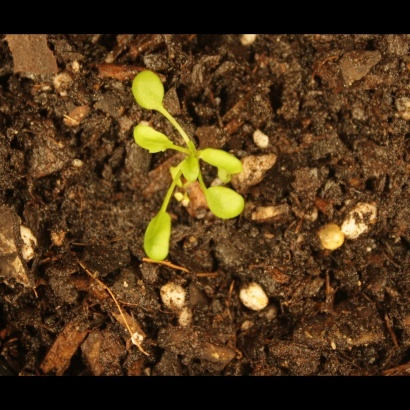leaf: (135, 207, 178, 273), (129, 117, 176, 161), (197, 139, 246, 180), (201, 186, 249, 225), (128, 68, 170, 109), (176, 150, 204, 188)
